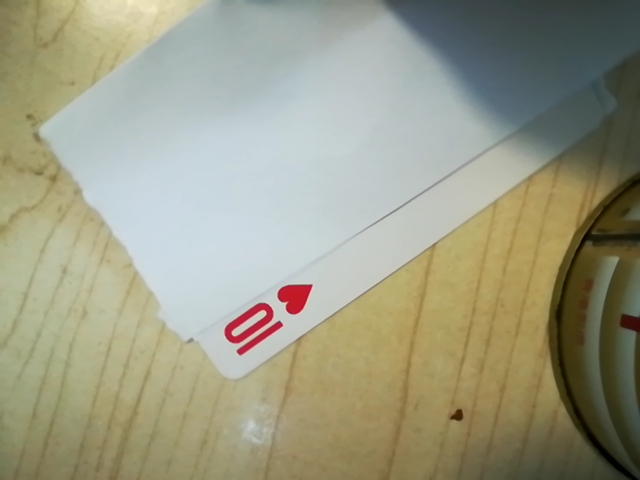hx 10: (212, 278, 315, 360)
